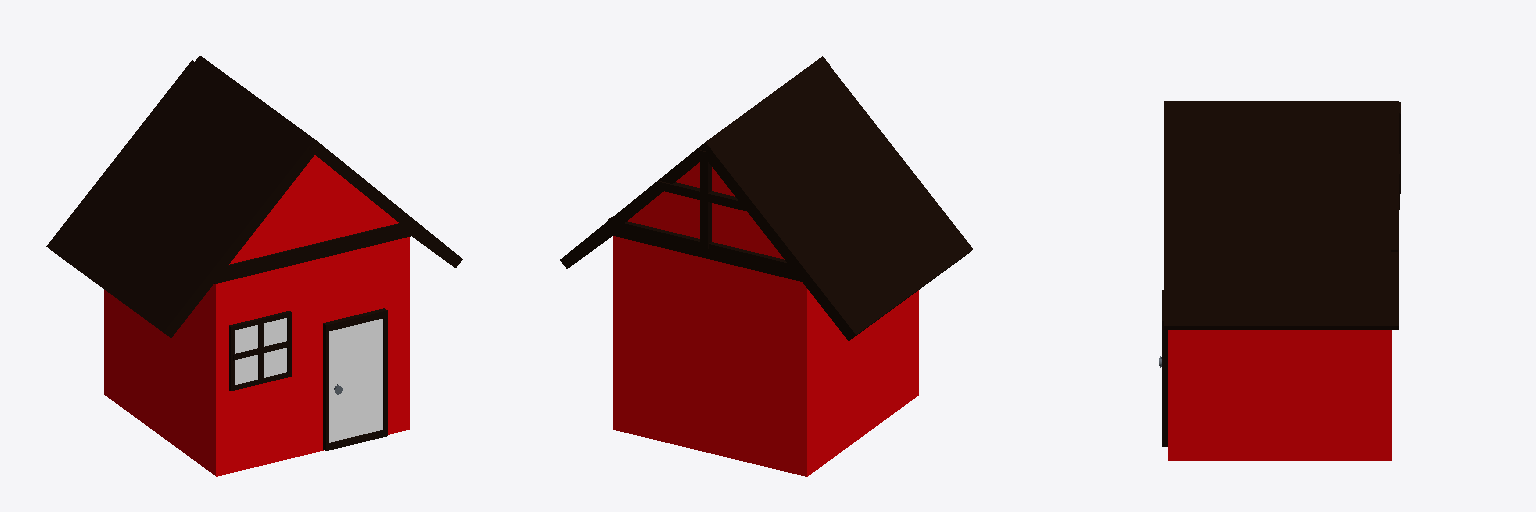
Rendered from house.obj.
The picture shows the model from 3 angles: view 1: azimuth 30°, elevation 25°; view 2: azimuth 150°, elevation 25°; view 3: azimuth 270°, elevation 25°; orthographic projection.
Visible parts, largest first — view 1: Cube, Mặt_Phẳng.001, Mặt_Phẳng, Mặt_Phẳng.002, Mặt_Phẳng.003, Mặt_Phẳng.010, Mặt_Phẳng.009, Mặt_Phẳng.013, Mặt_Phẳng.014, Mặt_Phẳng.011, Mặt_Phẳng.012; view 2: Cube, Mặt_Phẳng.001, Mặt_Phẳng.002, Mặt_Phẳng.004, Mặt_Phẳng.008, Mặt_Phẳng.007; view 3: Mặt_Phẳng.002, Cube, Mặt_Phẳng.010.
Part boxes in pixels (x1,y1,x2,y2): Cube: (104,155,409,476); Mặt_Phẳng.001: (46,60,314,337); Mặt_Phẳng: (329,319,382,442); Mặt_Phẳng.002: (195,56,462,267); Mặt_Phẳng.003: (214,223,411,283); Mặt_Phẳng.010: (323,308,387,450); Mặt_Phẳng.009: (229,311,291,390); Mặt_Phẳng.013: (235,355,257,384); Mặt_Phẳng.014: (264,348,286,377); Mặt_Phẳng.011: (235,325,257,353); Mặt_Phẳng.012: (264,318,286,346); Cube: (613,162,918,476); Mặt_Phẳng.001: (703,63,972,340); Mặt_Phẳng.002: (560,56,829,268); Mặt_Phẳng.004: (608,217,801,281); Mặt_Phẳng.008: (700,150,711,249); Mặt_Phẳng.007: (657,181,745,210); Mặt_Phẳng.002: (1164,101,1398,329); Cube: (1168,330,1391,460); Mặt_Phẳng.010: (1162,290,1167,446).
Size of the model in its own units: 12.09 by 12.15 by 8.53.